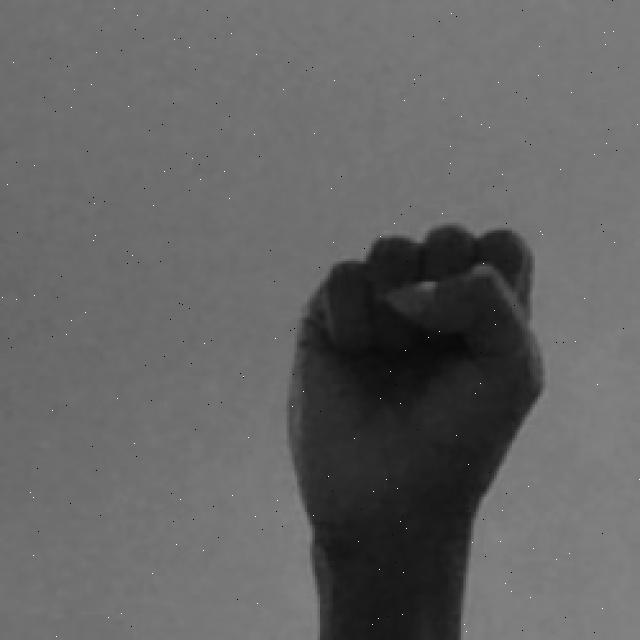S: (278, 220, 550, 640)
